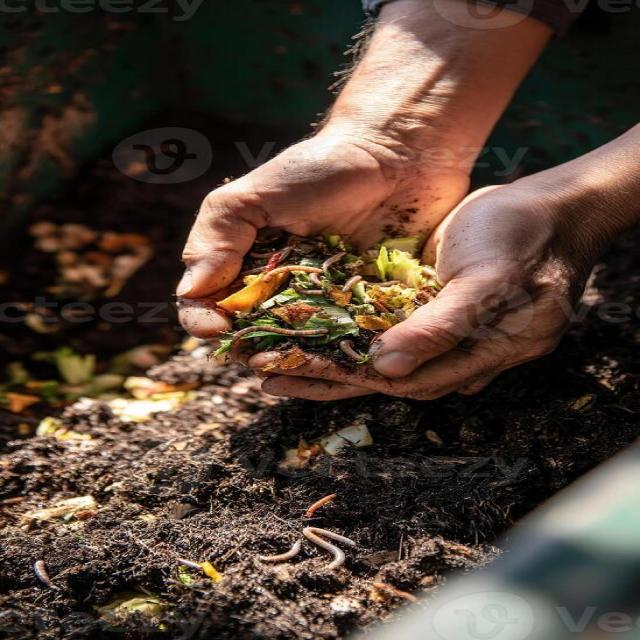materia_organica: (117, 108, 606, 608)
